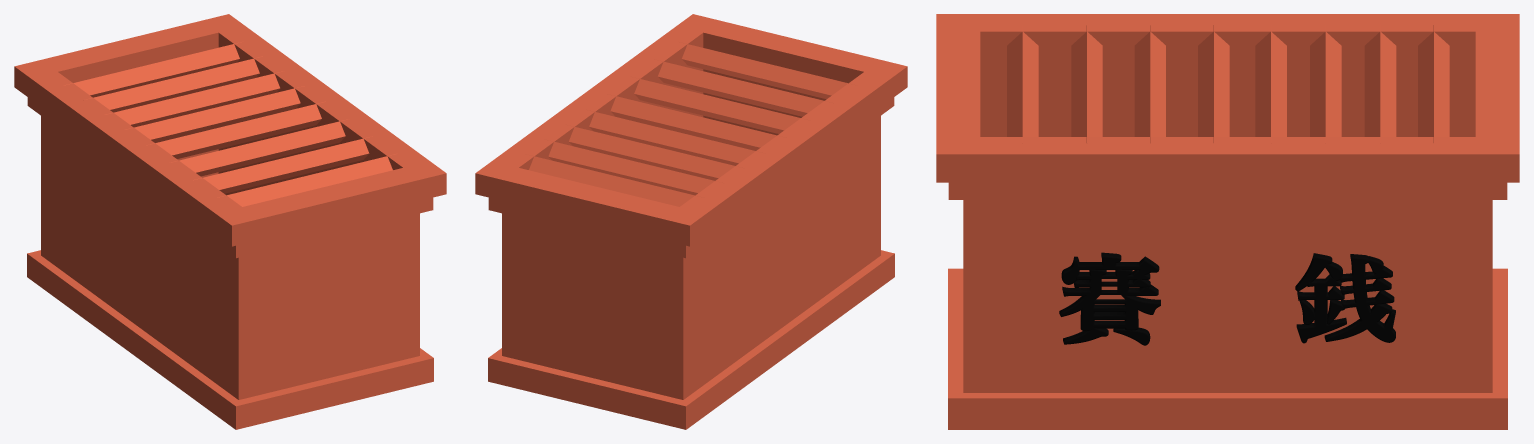
Rendered from saisen3.glb.
3 renders of one model, left to right at view 1: azimuth 30°, elevation 25°; view 2: azimuth 150°, elevation 25°; view 3: azimuth 270°, elevation 25°, orthographic. The views are drawn at different scales.
Visible parts, largest first — view 1: Cube; view 2: Cube; view 3: Cube.
Boxes of the visible parts, x1=… form: Cube: x1=14, y1=14, x2=446, y2=429; Cube: x1=475, y1=14, x2=907, y2=429; Cube: x1=936, y1=14, x2=1519, y2=429.
Bounding box in the file's own units: 2.38 × 2.22 × 4.18.
